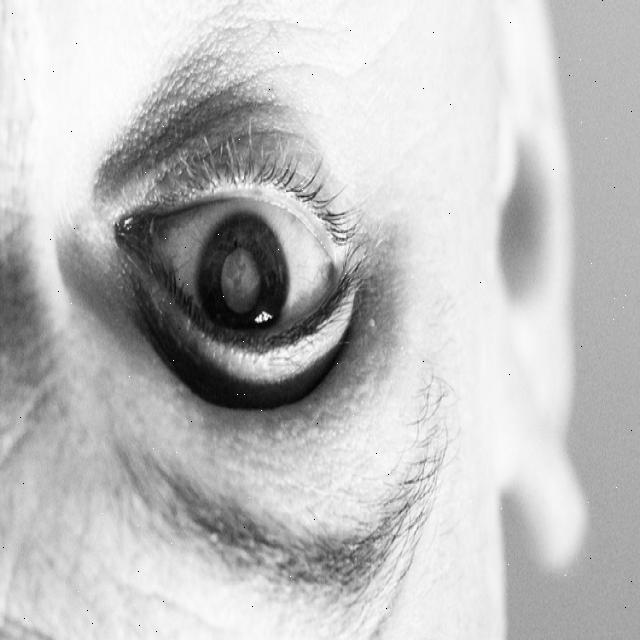Cataract: (200, 212, 290, 351)
